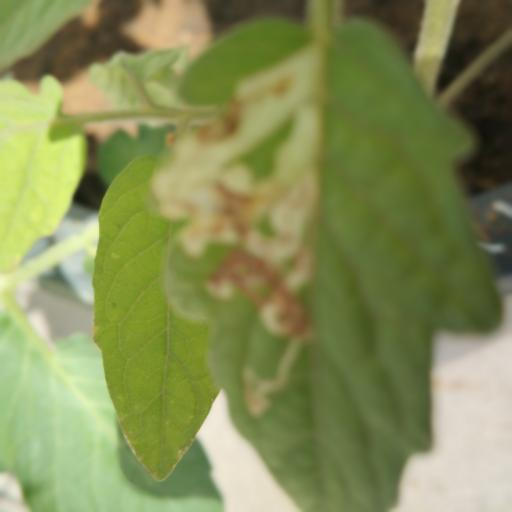Leaf_Miner: (147, 15, 502, 512)
